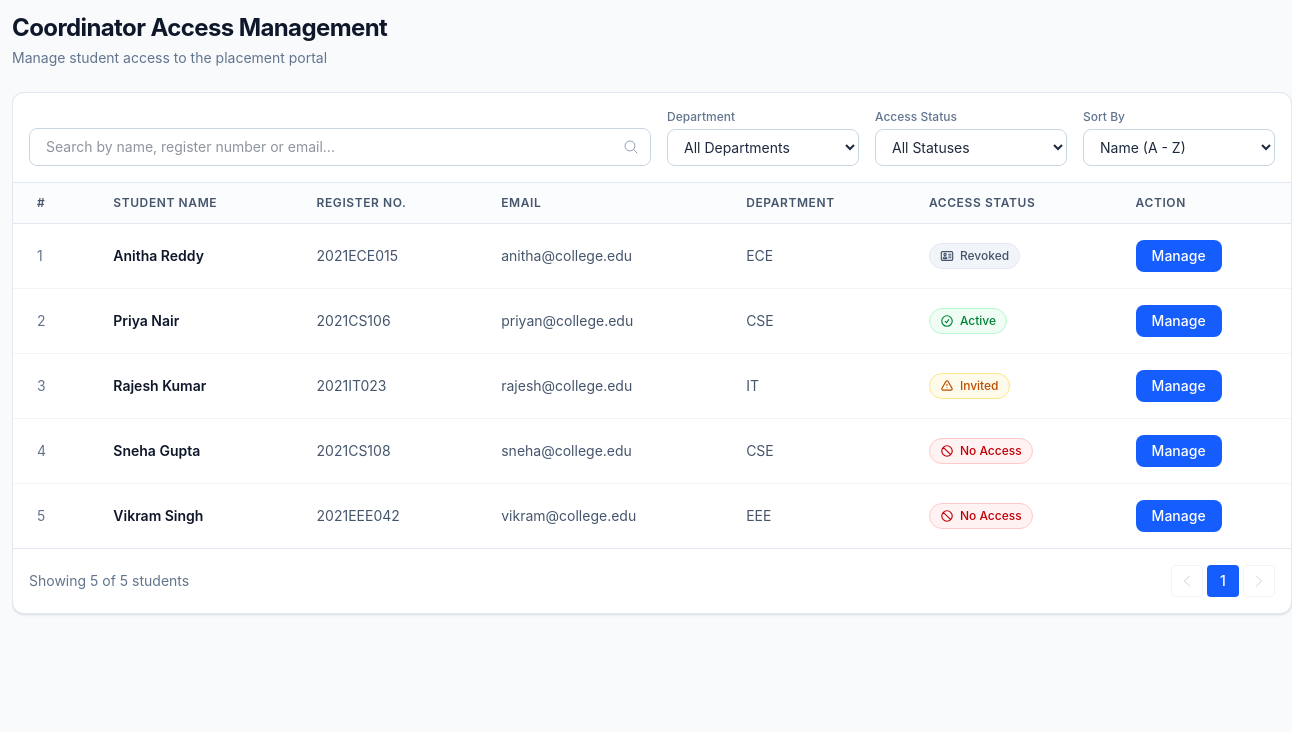
Scenario: Coordinator Access Management - Lifecycle Implementation › Student Access Directory › searches students by email
Expected: the text "Rajesh Kumar" is shown, x1=89 y1=354 x2=292 y2=418
Type "rajesh@college.edu" into the field with placeholder "Search by name, register number or email...".
click(340, 147); type("rajesh@college.edu")  # box x1=29 y1=128 x2=651 y2=166
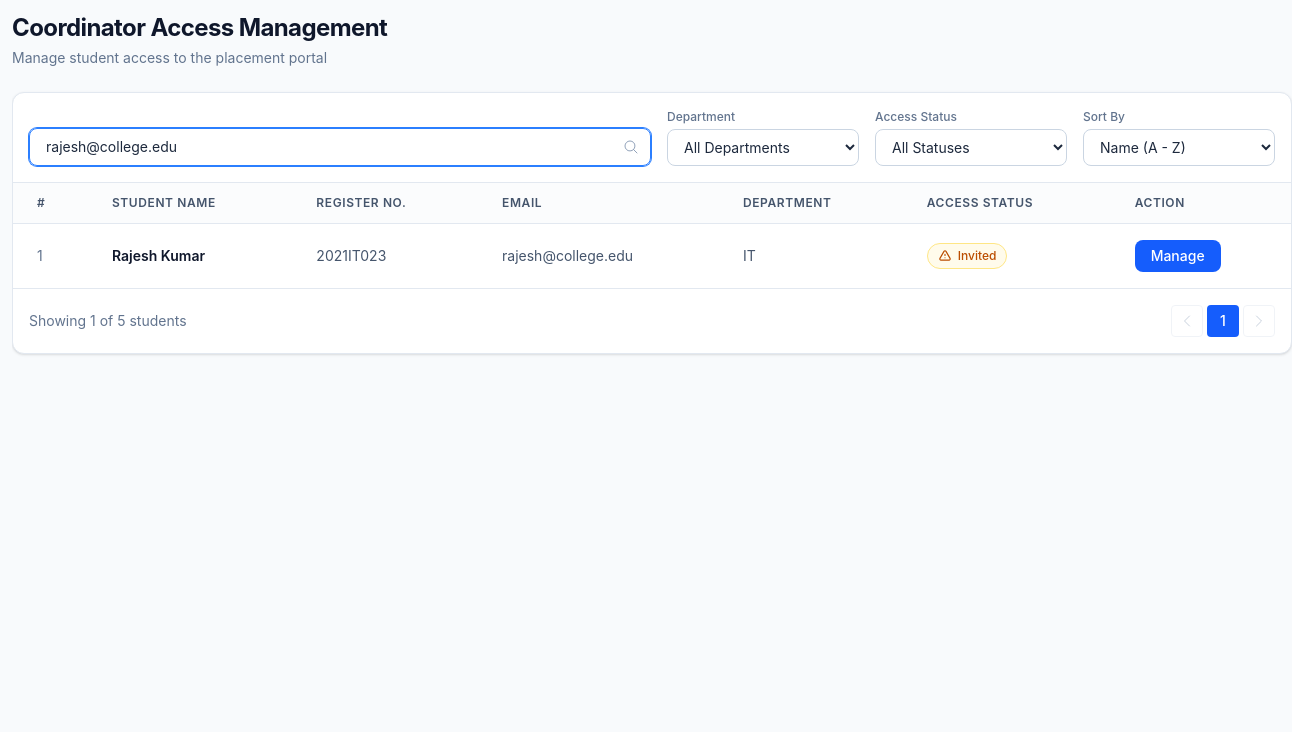
Expected: the text "Rajesh Kumar" is shown, x1=88 y1=224 x2=292 y2=288
Expected: the text "Priya Nair" is gone
